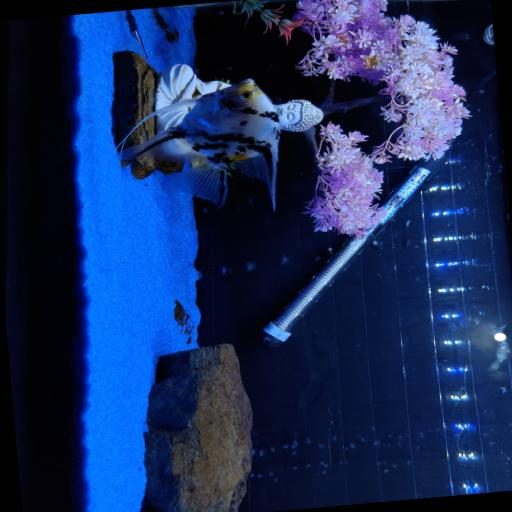Fish: (119, 78, 278, 207)
